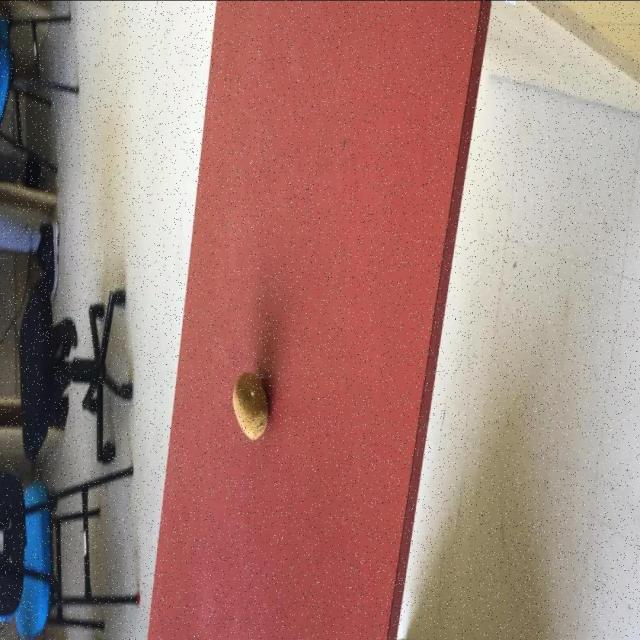Kiwi: (232, 370, 268, 439)
